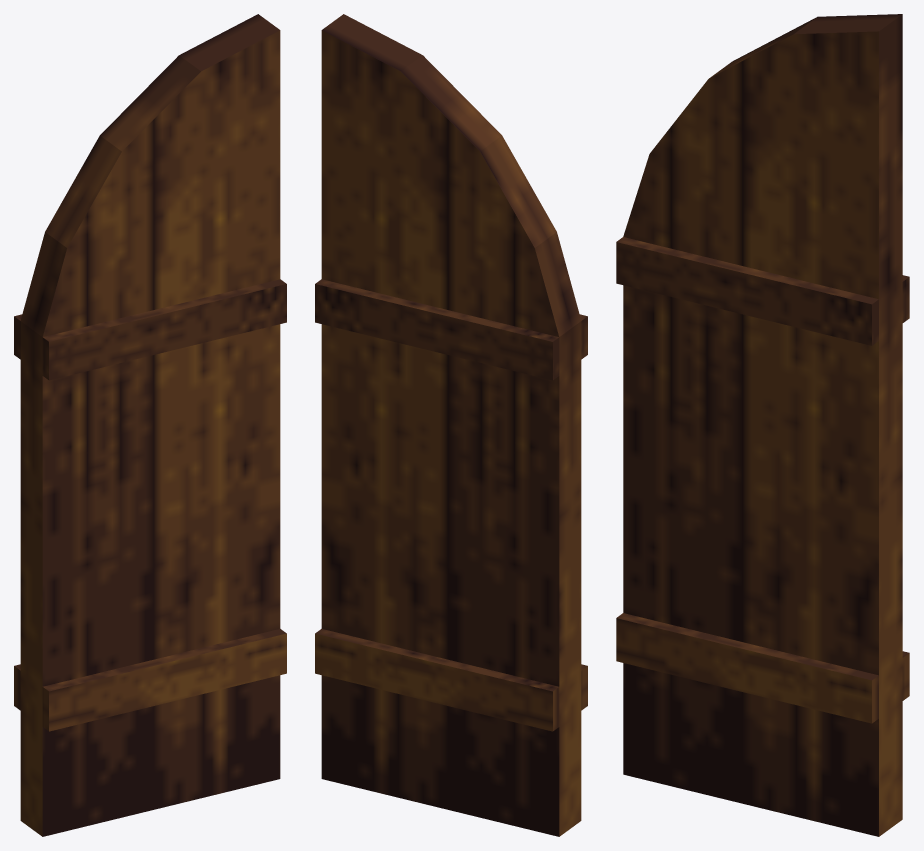
The model's file is SM_Dungeon_Door_Double.fbx.
3 views of the same model, side by side, from view 1: azimuth 30°, elevation 25°; view 2: azimuth 150°, elevation 25°; view 3: azimuth 330°, elevation 25° (orthographic). The views are drawn at different scales.
Visible parts, largest first — view 1: SM_Dungeon_Door_Double; view 2: SM_Dungeon_Door_Double; view 3: SM_Dungeon_Door_Double.
Part boxes in pixels (x1,y1,x2,y2): SM_Dungeon_Door_Double: [14, 14, 286, 836]; SM_Dungeon_Door_Double: [315, 14, 587, 836]; SM_Dungeon_Door_Double: [616, 14, 909, 836].
Bounding box in the file's own units: 74.31 × 224 × 18.98.
